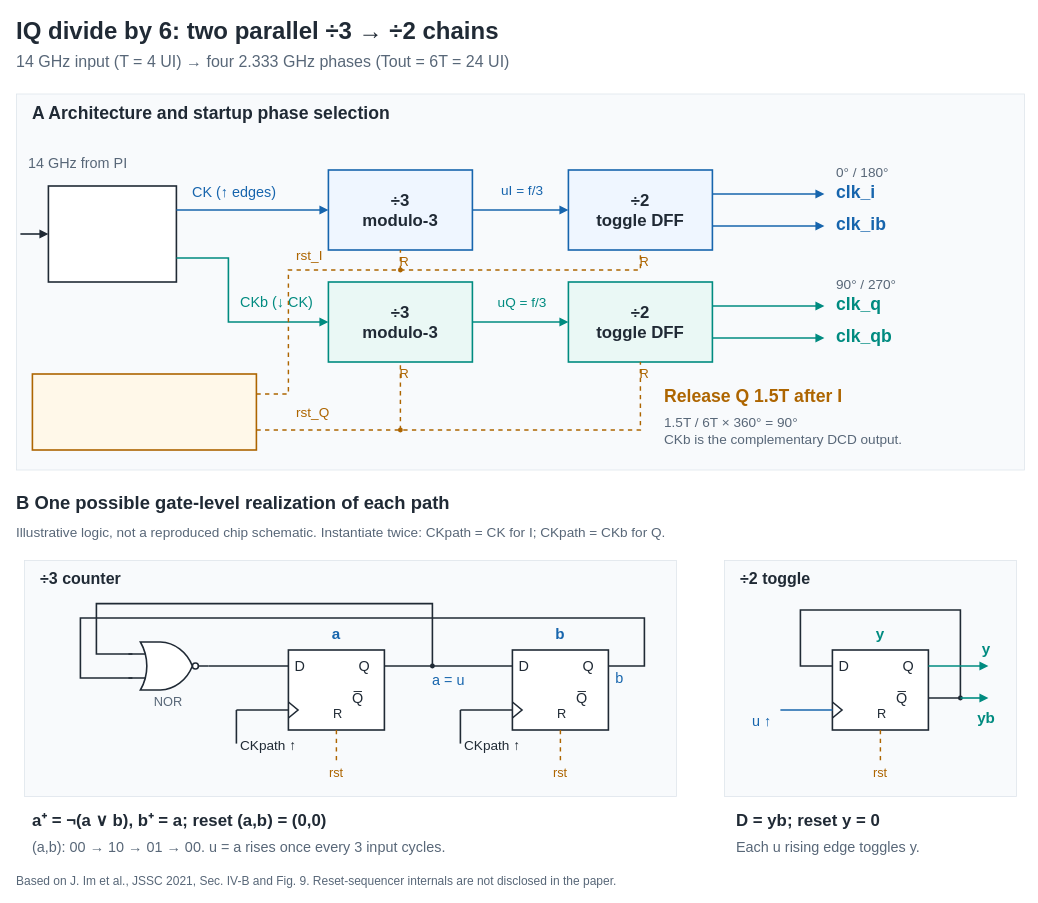
This 1038x903 diagram has some shape labels left out. The centre of each missing label's shape, as x and y in pixels:
"DCD correction" belongs at point 112,233.
"Startup / reset sequencer active-high reset" belongs at point 144,411.
